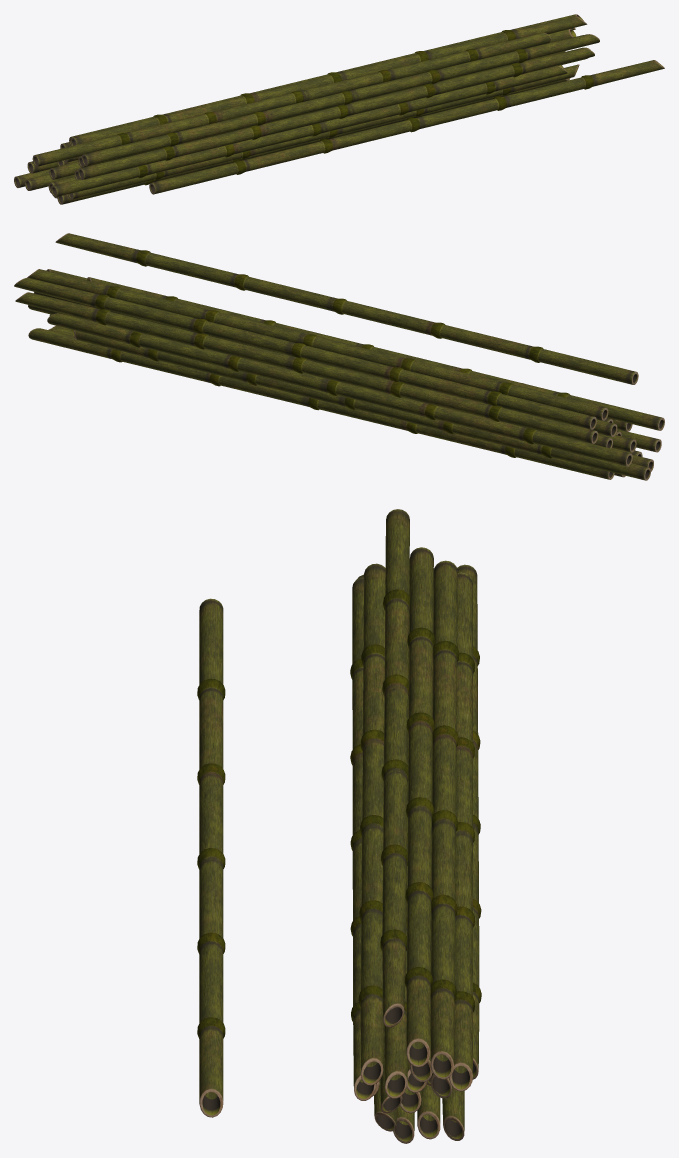
Rendered from bamboo6.glb.
The picture shows the model from 3 angles, top to bottom: view 1: azimuth 30°, elevation 25°; view 2: azimuth 150°, elevation 25°; view 3: azimuth 270°, elevation 25°; orthographic projection. The views are drawn at different scales.
Visible parts, largest first — view 1: 01__0; view 2: 01__0; view 3: 01__0.
Boxes of the visible parts, x1,y1,x2,y2 form: 01__0: (14, 14, 664, 204); 01__0: (14, 233, 664, 480); 01__0: (197, 509, 481, 1143).
Bounding box in the file's own units: 3.37 × 0.3323 × 0.708.
Materials: 1 (1 with a texture image).
